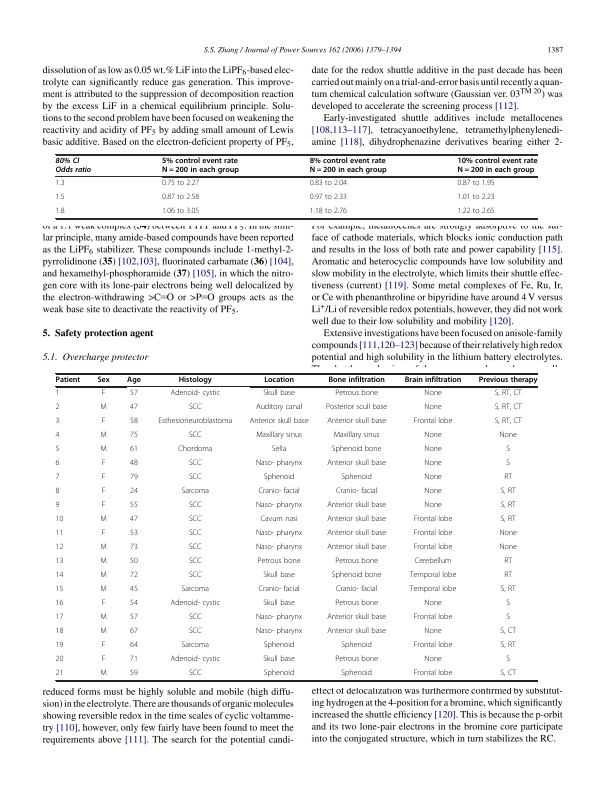borderless: (54, 372, 537, 680), (54, 153, 537, 218)
cell: (457, 157, 538, 175), (161, 157, 240, 175), (309, 157, 388, 175), (157, 417, 233, 427), (325, 403, 388, 413), (55, 157, 92, 174), (326, 417, 387, 427), (326, 459, 387, 469), (326, 501, 387, 511), (326, 515, 387, 525), (326, 529, 387, 539), (326, 543, 387, 553), (326, 613, 387, 623), (326, 627, 387, 637), (249, 417, 309, 427), (478, 376, 538, 385), (327, 376, 386, 385), (404, 376, 462, 385), (169, 389, 221, 399), (169, 599, 221, 609), (169, 655, 221, 665), (331, 445, 382, 455), (331, 571, 382, 581), (255, 403, 303, 413), (255, 431, 303, 441), (255, 459, 303, 469), (255, 501, 303, 511), (255, 529, 303, 539), (255, 543, 303, 553), (409, 571, 457, 581), (409, 585, 457, 595), (255, 613, 303, 623), (255, 627, 303, 637), (333, 431, 380, 441), (334, 389, 379, 399), (334, 557, 379, 567), (334, 599, 379, 609), (334, 655, 379, 665), (257, 487, 301, 497), (257, 557, 301, 567), (257, 585, 301, 595), (335, 487, 378, 497), (335, 585, 378, 595), (413, 417, 453, 427), (259, 515, 299, 525), (413, 515, 453, 525), (413, 529, 453, 539), (413, 543, 453, 553), (413, 613, 453, 623), (413, 641, 453, 651), (413, 669, 453, 679), (414, 557, 452, 567), (177, 445, 213, 455), (262, 389, 296, 399), (262, 571, 296, 581), (262, 599, 296, 609), (262, 655, 296, 665), (340, 473, 373, 483), (340, 641, 373, 651), (340, 669, 373, 679), (263, 473, 295, 483), (263, 641, 295, 651), (263, 669, 295, 679), (178, 376, 213, 385), (180, 487, 210, 497), (180, 585, 210, 595), (180, 641, 210, 651), (494, 389, 523, 399), (494, 403, 523, 413), (494, 417, 523, 427), (263, 376, 295, 385), (161, 180, 200, 187), (309, 180, 348, 187), (457, 180, 496, 187), (161, 194, 200, 201), (309, 194, 348, 201), (457, 194, 496, 201), (161, 208, 200, 215), (309, 208, 348, 215), (457, 208, 496, 215), (55, 376, 81, 385), (423, 389, 443, 399), (423, 403, 443, 413), (423, 431, 443, 441), (498, 431, 518, 441), (423, 445, 443, 455), (423, 459, 443, 469), (423, 473, 443, 483), (423, 487, 443, 497), (423, 501, 443, 511), (498, 529, 518, 539), (498, 543, 518, 553), (423, 599, 443, 609), (423, 627, 443, 637), (423, 655, 443, 665), (499, 627, 517, 637), (499, 669, 517, 679), (500, 487, 517, 497), (500, 501, 517, 511), (500, 515, 517, 525), (500, 585, 517, 595), (500, 641, 517, 651), (271, 445, 287, 455), (126, 376, 142, 385), (188, 403, 202, 413), (188, 431, 202, 441), (188, 459, 202, 469), (188, 473, 202, 483), (188, 501, 202, 511), (188, 515, 202, 525), (188, 529, 202, 539), (188, 543, 202, 553), (188, 557, 202, 567), (188, 571, 202, 581), (188, 613, 202, 623), (188, 627, 202, 637), (188, 669, 202, 679), (96, 376, 111, 385), (129, 389, 139, 399), (129, 403, 139, 413), (129, 417, 139, 427), (129, 431, 139, 441), (129, 445, 139, 455), (129, 459, 139, 469), (129, 473, 139, 483), (503, 473, 513, 483), (129, 487, 139, 497), (129, 501, 139, 511), (129, 515, 139, 525), (129, 529, 139, 539), (129, 543, 139, 553), (129, 557, 139, 567), (503, 557, 513, 567), (129, 571, 139, 581), (503, 571, 513, 581), (129, 585, 139, 595), (129, 599, 139, 609), (129, 613, 139, 623), (129, 627, 139, 637), (129, 641, 139, 651), (129, 655, 139, 665), (129, 669, 139, 679), (99, 403, 108, 413), (99, 431, 108, 441), (99, 445, 108, 455), (55, 515, 64, 525), (99, 515, 108, 525), (55, 529, 64, 539), (55, 543, 64, 553), (99, 543, 108, 553), (55, 557, 64, 567), (99, 557, 108, 567), (55, 571, 64, 581), (99, 571, 108, 581), (55, 585, 64, 595), (99, 585, 108, 595), (55, 599, 64, 609), (55, 613, 64, 623), (99, 613, 108, 623), (55, 627, 64, 637), (99, 627, 108, 637), (55, 641, 64, 651), (55, 655, 64, 665), (55, 669, 64, 679), (99, 669, 108, 679), (55, 180, 65, 187), (55, 194, 65, 201), (55, 208, 65, 215), (505, 445, 511, 455), (505, 459, 511, 469), (505, 599, 511, 609), (505, 613, 511, 623), (505, 655, 511, 665), (55, 389, 60, 399), (101, 389, 106, 399), (55, 403, 60, 413), (55, 417, 60, 427), (101, 417, 106, 427), (55, 431, 60, 441), (55, 445, 60, 455), (55, 459, 60, 469), (101, 459, 106, 469), (55, 473, 60, 483), (101, 473, 106, 483), (55, 487, 60, 497), (101, 487, 106, 497), (55, 501, 60, 511), (101, 501, 106, 511), (101, 529, 106, 539), (101, 599, 106, 609), (101, 641, 106, 651), (101, 655, 106, 665)
